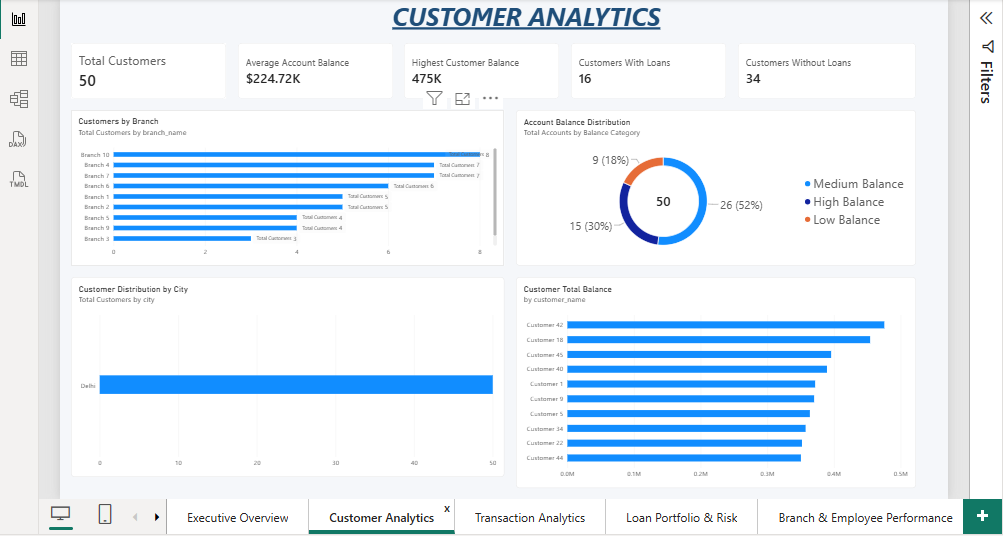

The dashboard page shown, as its layout file describes it:
{"tool":"powerbi","page":{"name":"Customer Analytics","canvas":[1920,1080],"ordinal":1},"visuals":[{"type":"cardVisual","fields":{"Data":["Accounts.Total Customers"]},"box":[24,96,336,120],"z":0},{"type":"textbox","box":[504,0,1008,72],"z":1000},{"type":"cardVisual","fields":{"Data":["Accounts.Average Account Balance"]},"box":[384,96,336,120],"z":2000},{"type":"cardVisual","fields":{"Data":["Accounts.Highest Customer Balance"]},"box":[744,96,336,120],"z":3000},{"type":"cardVisual","fields":{"Data":["Accounts.Customers With Loans"]},"box":[1104,96,336,120],"z":4000},{"type":"cardVisual","fields":{"Data":["Accounts.Customers Without Loans"]},"box":[1464,96,384,120],"z":5000},{"type":"clusteredBarChart","title":"Customers by Branch","fields":{"Category":["Branches.branch_name"],"Y":["Accounts.Total Customers"]},"box":[24,240,936,336],"z":6000},{"type":"clusteredBarChart","title":"Customer Distribution by City","fields":{"Category":["Customers.city"],"Y":["Accounts.Total Customers"]},"box":[24,600,936,432],"z":7000},{"type":"donutChart","title":"Account Balance Distribution","fields":{"Category":["Accounts.Balance Category"],"Y":["Accounts.Total Accounts"]},"box":[984,240,864,336],"z":8000},{"type":"clusteredBarChart","fields":{"Category":["Customers.customer_name"],"Y":["Accounts.Customer Total Balance"]},"box":[984,600,864,456],"z":9000}]}

Visuals, with their boxes on the page's 1920x1080 design canvas (x1, y1, x2, y2). These are canvas units, not pixel positions in the 1003x536 screenshot, which may show the page scaled, cropped or inside an application window:
cardVisual - Accounts.Total Customers: select_region(24, 96, 360, 216)
textbox: select_region(504, 0, 1512, 72)
cardVisual - Accounts.Average Account Balance: select_region(384, 96, 720, 216)
cardVisual - Accounts.Highest Customer Balance: select_region(744, 96, 1080, 216)
cardVisual - Accounts.Customers With Loans: select_region(1104, 96, 1440, 216)
cardVisual - Accounts.Customers Without Loans: select_region(1464, 96, 1848, 216)
"Customers by Branch" clusteredBarChart: select_region(24, 240, 960, 576)
"Customer Distribution by City" clusteredBarChart: select_region(24, 600, 960, 1032)
"Account Balance Distribution" donutChart: select_region(984, 240, 1848, 576)
clusteredBarChart - Customers.customer_name x Accounts.Customer Total Balance: select_region(984, 600, 1848, 1056)
